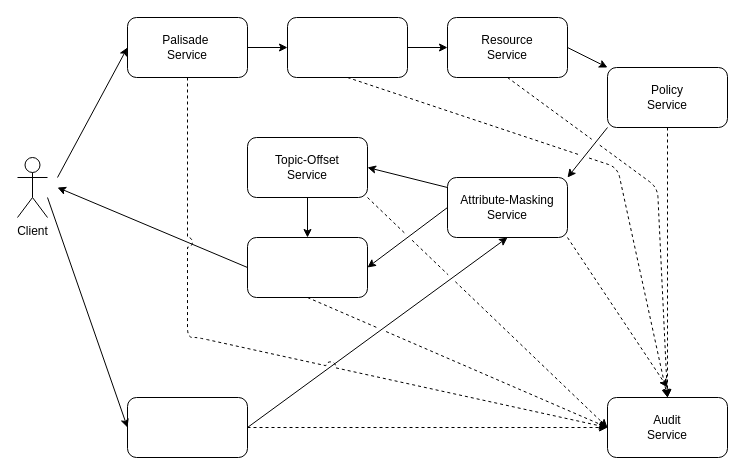
This 745x475 diagram has some shape labels left out. The centre of each missing label's shape, as x and y in pixels:
Data Service: the point at 187,427
Filtered-Resource Service: the point at 307,267
User Service: the point at 347,47
